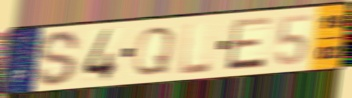4: (82, 26, 118, 83)
5: (274, 12, 313, 67)
E: (224, 15, 274, 72)
L: (178, 20, 213, 77)
Q: (131, 25, 177, 77)
S: (35, 29, 82, 88)
